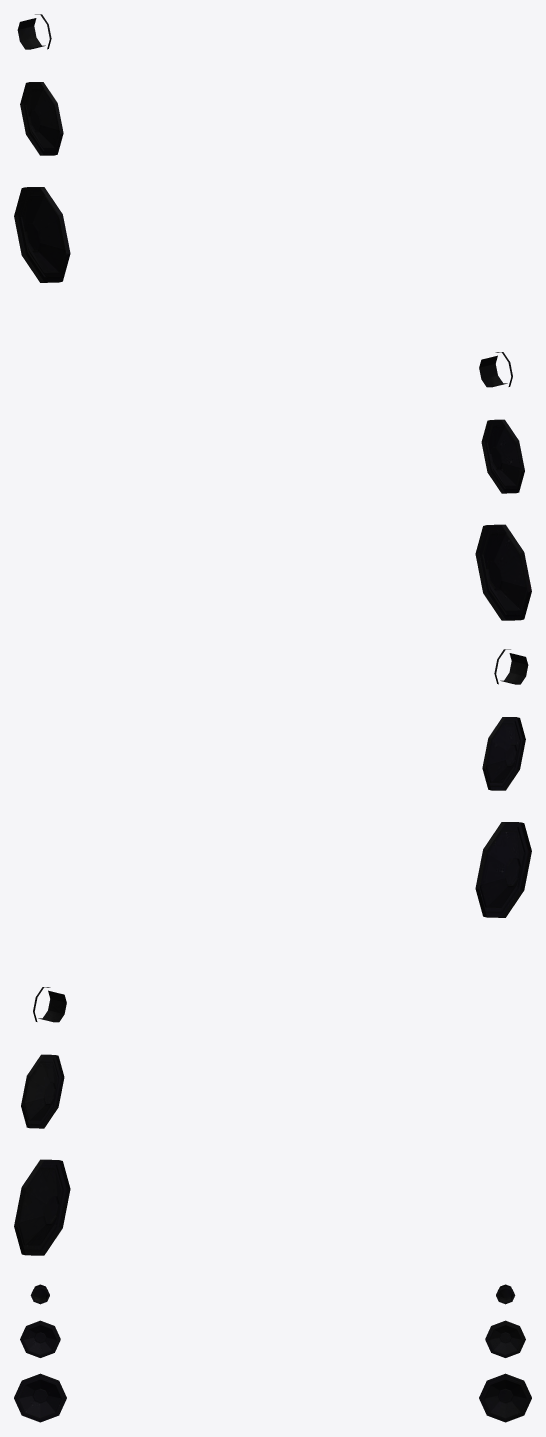
The model's file is loud_speakers.glb.
The picture shows the model from 3 angles, top to bottom: view 1: azimuth 30°, elevation 25°; view 2: azimuth 150°, elevation 25°; view 3: azimuth 270°, elevation 25°; orthographic projection. The views are drawn at different scales.
Visible parts, largest first — view 1: loud_speakers; view 2: loud_speakers; view 3: loud_speakers.
Boxes of the visible parts, x1=… form: loud_speakers: x1=14, y1=14, x2=531, y2=620; loud_speakers: x1=14, y1=649, x2=531, y2=1255; loud_speakers: x1=14, y1=1284, x2=531, y2=1422.
Bounding box in the file's own units: 0.3661 × 4.62 × 16.04.
Materials: 1 (1 with a texture image).
